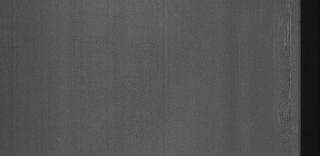silk spot: (270, 14, 296, 57)
